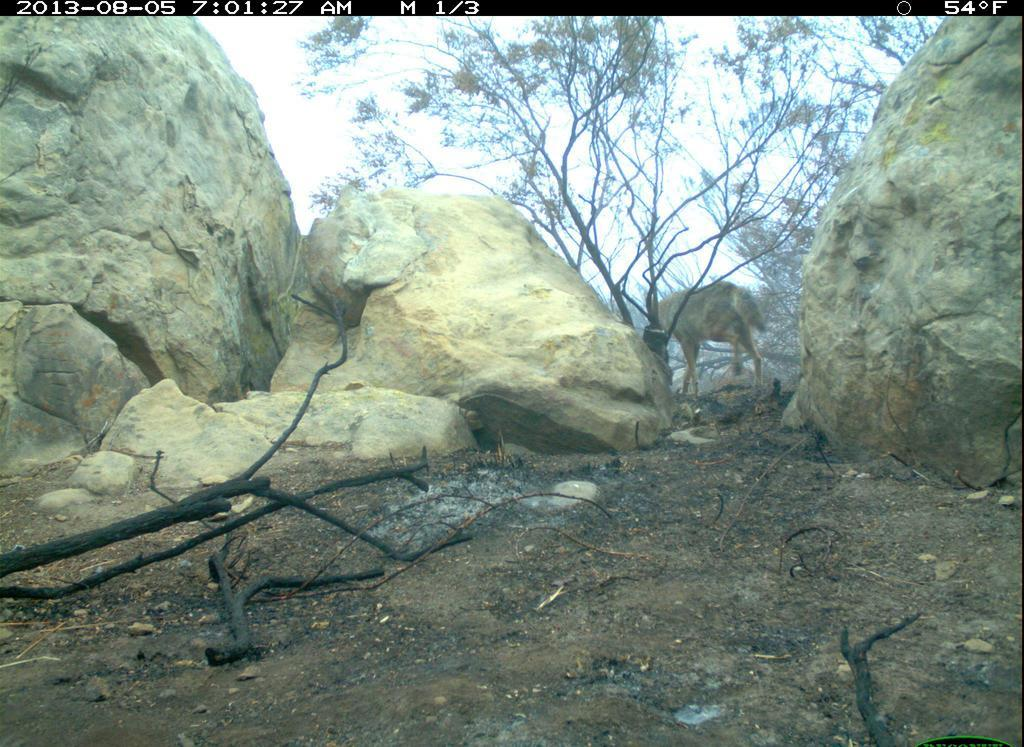coyote: (646, 272, 781, 429)
